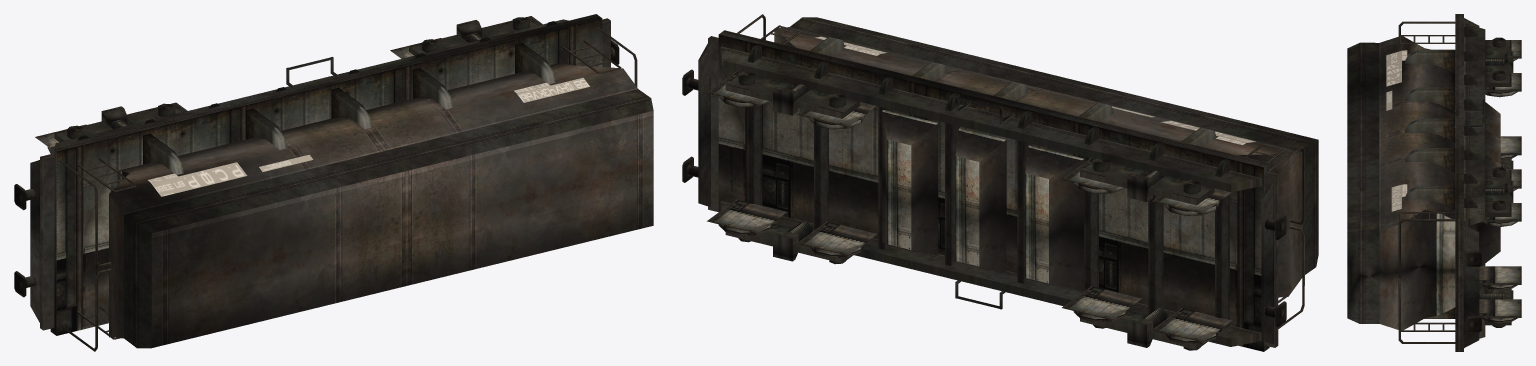
The model's file is prop_rail_graincar.glb.
3 renders of one model, left to right at view 1: azimuth 30°, elevation 25°; view 2: azimuth 150°, elevation 25°; view 3: azimuth 270°, elevation 25°, orthographic. The views are drawn at different scales.
Bounding box in the file's own units: 411 × 133 × 139.
Materials: 2 (2 with a texture image).
